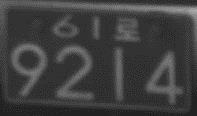1: (102, 46, 137, 102), (84, 15, 108, 40)
2: (53, 43, 95, 101)
4: (144, 49, 184, 105)
6: (51, 12, 80, 38)
9: (9, 42, 48, 97)
로: (114, 16, 140, 42)
